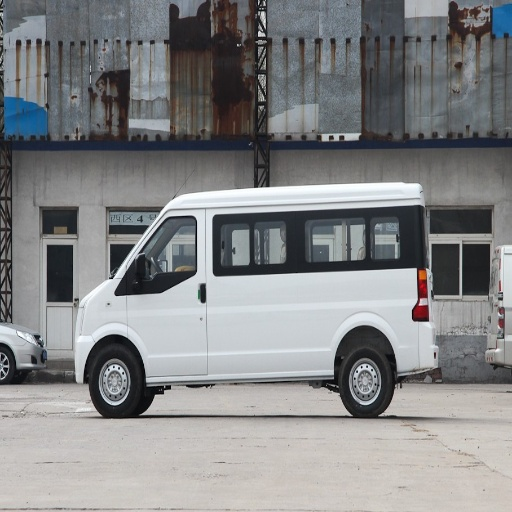back_left_door: (253, 212, 311, 366)
trunk: (318, 273, 428, 371)
